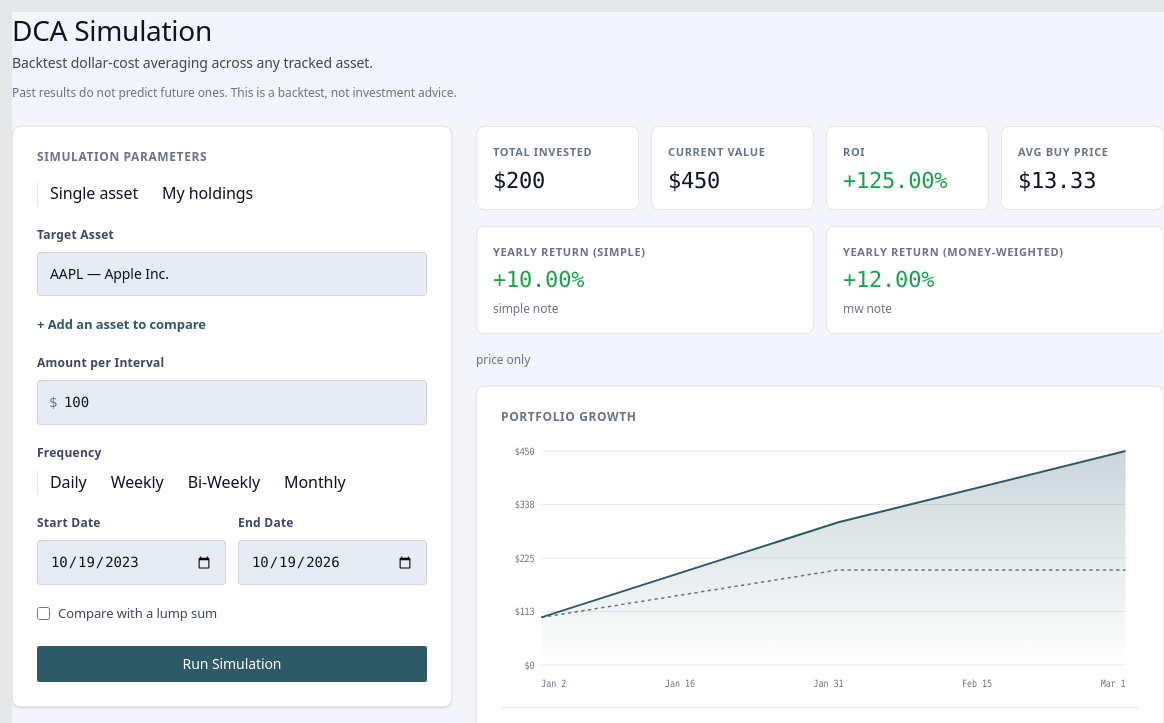
Scenario: DCASimulation page › rejects a half-typed date without sending a request
Expected: the text "mw note" is shown, [843, 300, 892, 316]
Clear the date field with id "dca-start" at (132, 563), box [37, 540, 226, 585]
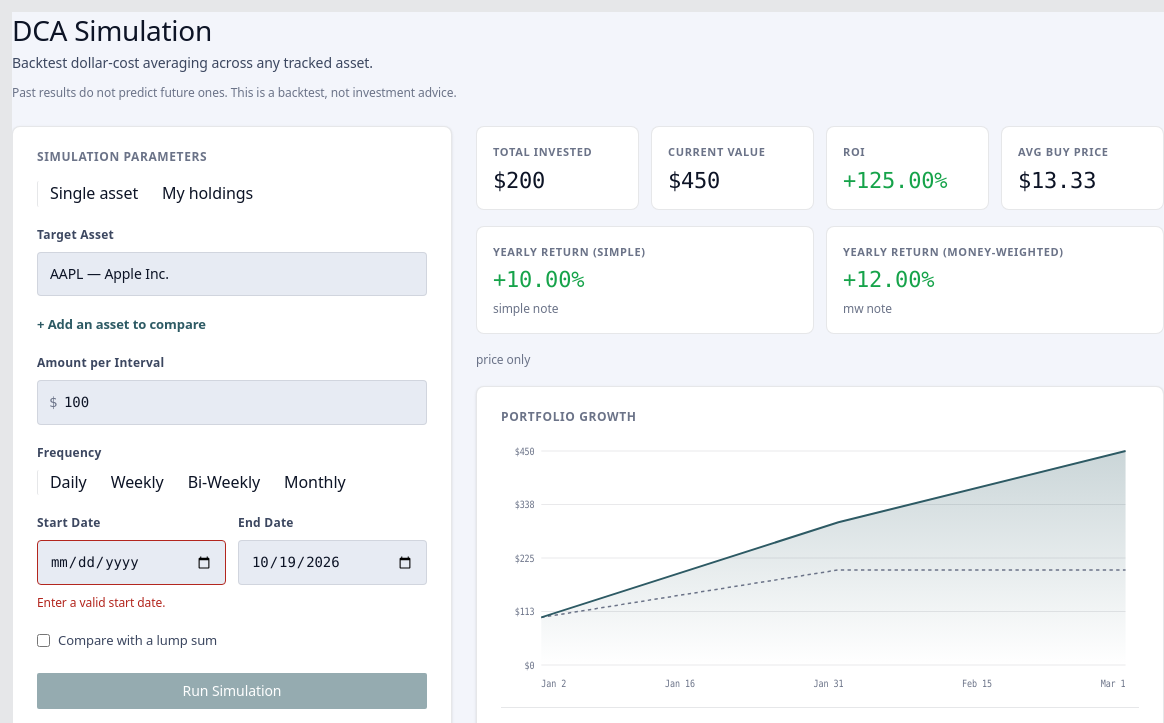
Expected: the text "Enter a valid start date." is shown, [37, 594, 165, 611]
